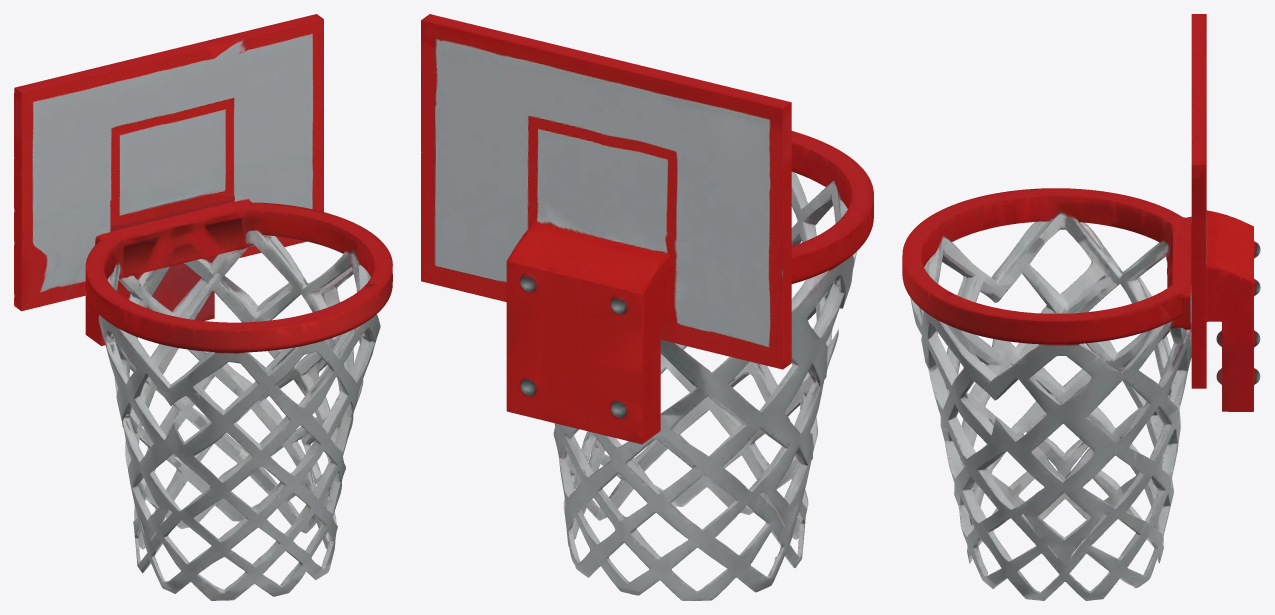
Rendered from Canestro.glb.
The picture shows the model from 3 angles, left to right: view 1: azimuth 30°, elevation 25°; view 2: azimuth 150°, elevation 25°; view 3: azimuth 270°, elevation 25°; orthographic projection. The views are drawn at different scales.
Size of the model in its own units: 1.31 by 1.9 by 1.31.
Materials: 1 (1 with a texture image).
